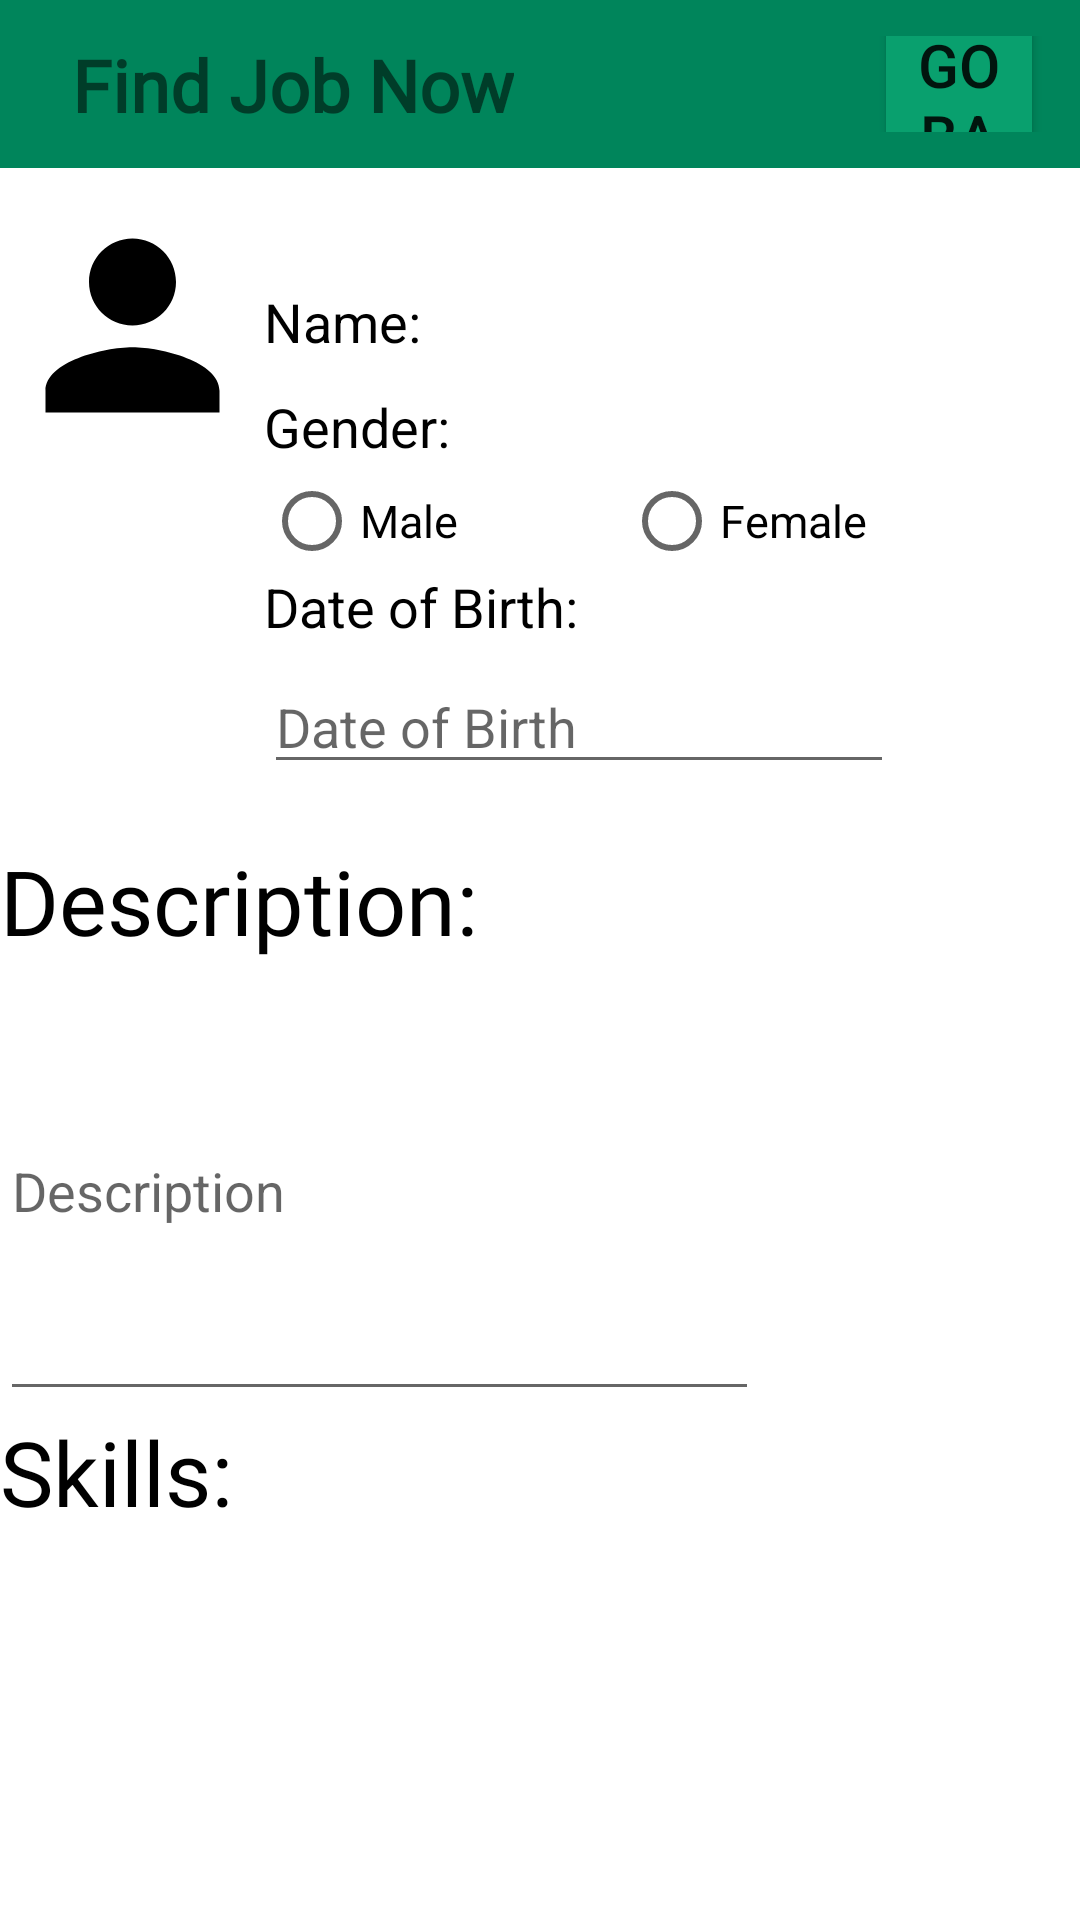

Icons on this 1080 × 1920 Android screen, each with the point to tap as point (x, y):
person: point (132, 325)
